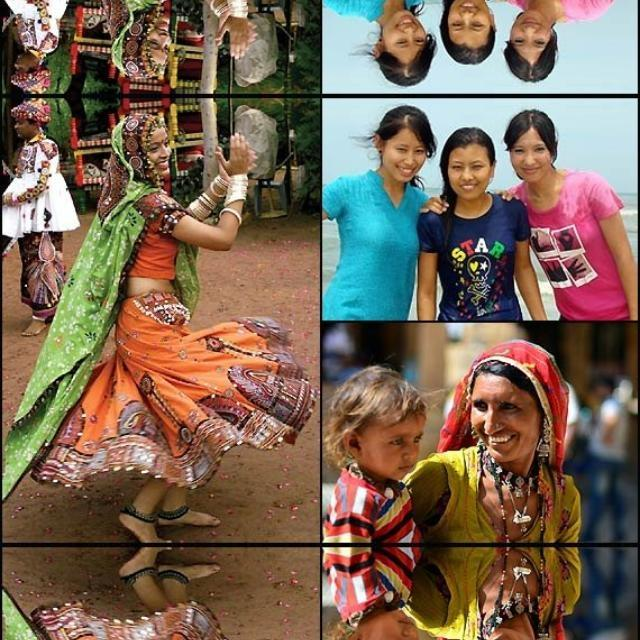person: (453, 335, 571, 489), (97, 106, 207, 196), (97, 0, 207, 84), (504, 101, 570, 236), (359, 111, 431, 207), (504, 0, 569, 88), (359, 0, 431, 79), (441, 114, 495, 216), (453, 599, 571, 640), (441, 0, 495, 75)
